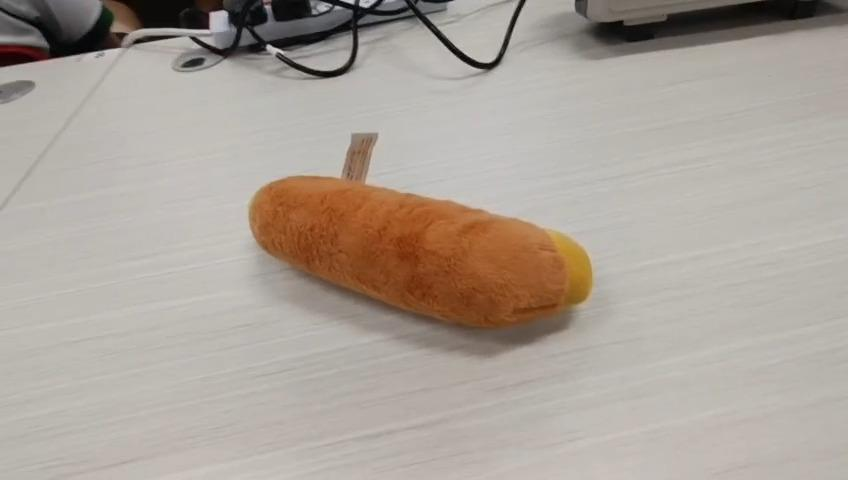hotdog: (249, 175, 595, 327)
